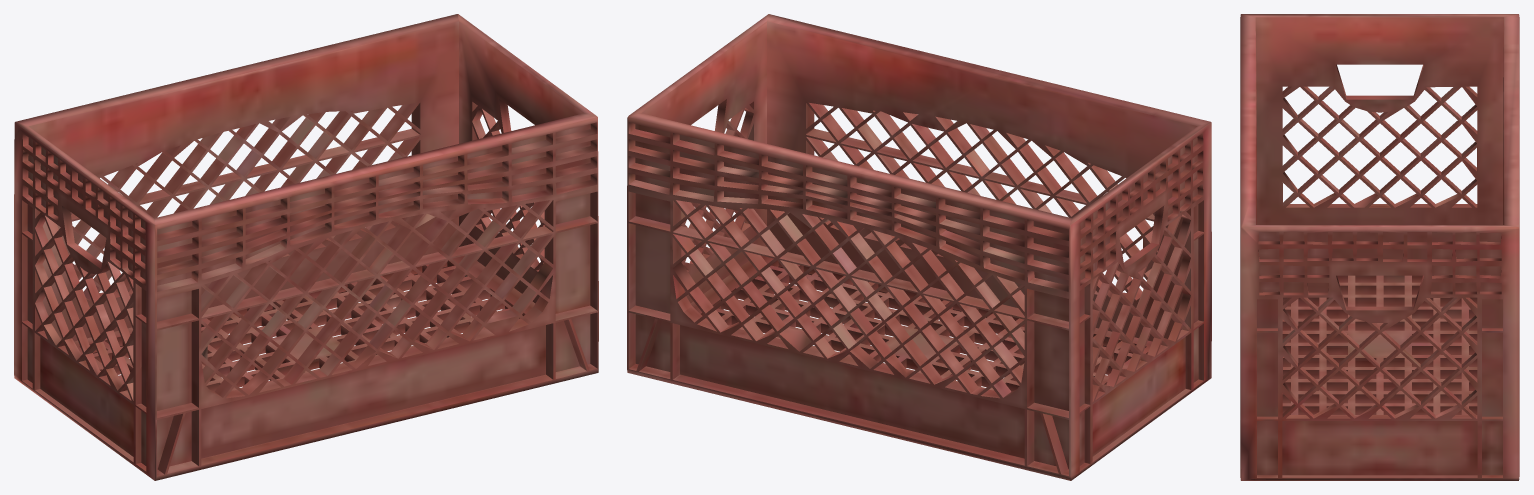
File: cratePlastic2_lo.glb
3 renders of one model, left to right at view 1: azimuth 30°, elevation 25°; view 2: azimuth 150°, elevation 25°; view 3: azimuth 270°, elevation 25°, orthographic.
Visible parts, largest first — view 1: plastic_crate_03; view 2: plastic_crate_03; view 3: plastic_crate_03.
Boxes of the visible parts, x1,y1,x2,y2 form: plastic_crate_03: (14,14,598,480); plastic_crate_03: (627,14,1211,480); plastic_crate_03: (1240,14,1519,480).
Size of the model in its own units: 0.4811 by 0.2652 by 0.265.
Materials: 1 (1 with a texture image).
